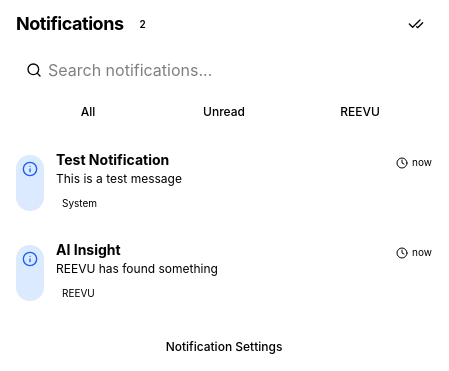
Test: NotificationInboxPanel › filters notifications by search query
This screenshot has width=449, height=371.
Type "AI Insight" into the field with placeholder "Search notifications..." at (224, 70), box [16, 52, 432, 88]
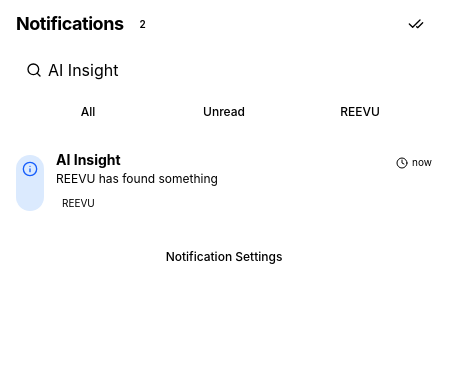
Check: the heading "AI Insight" is shown, box [56, 153, 121, 167]
Check: the button "Test Notification" is gone
